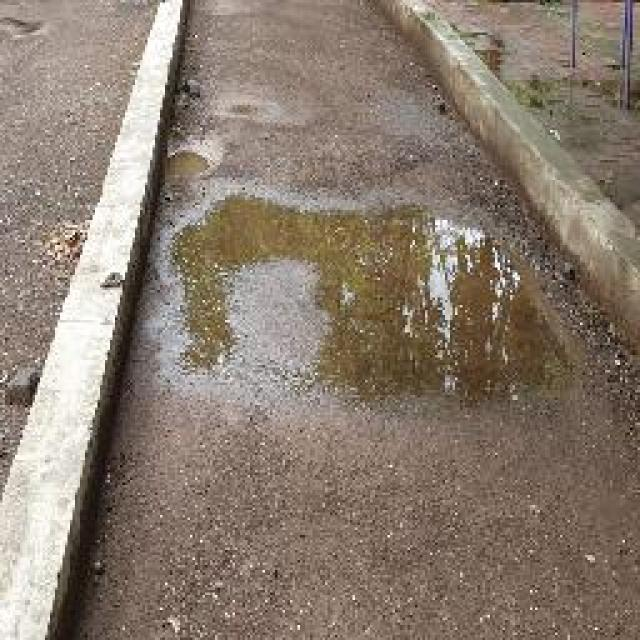puddle: (305, 209, 545, 399)
